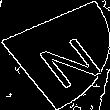N_NW: (14, 24, 96, 86)
